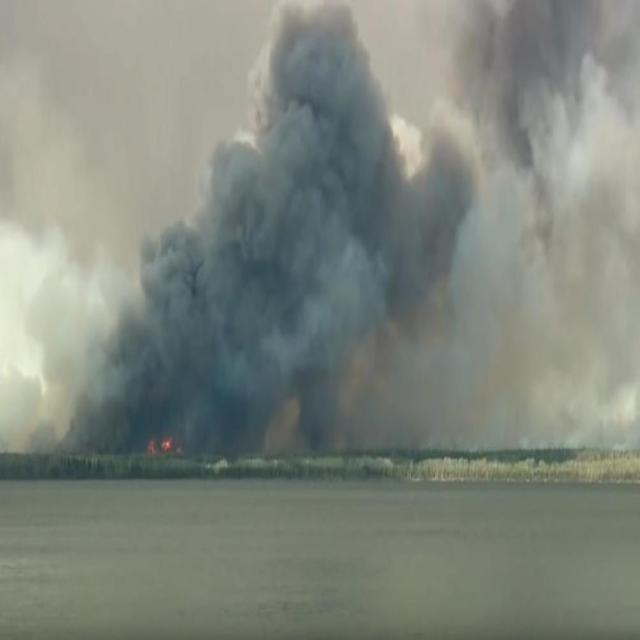Fire: (161, 436, 170, 451)
